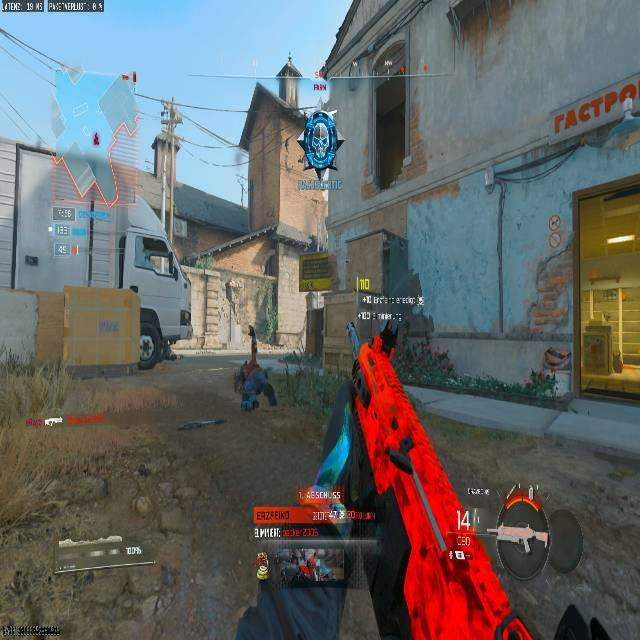player: (235, 359, 280, 411), (344, 298, 378, 357)
